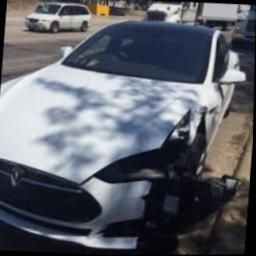Bumper: (103, 172, 240, 247)
Light: (90, 110, 190, 184)
